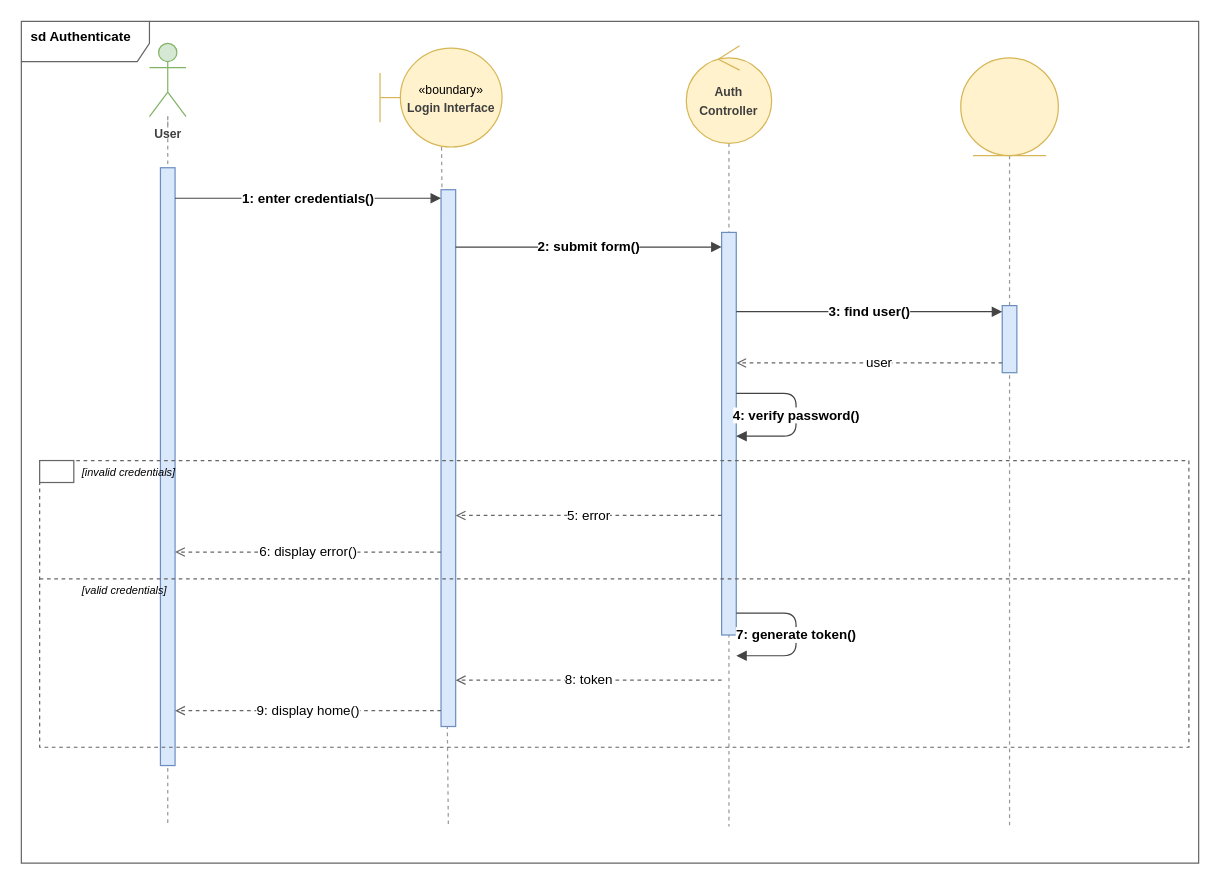
Some shapes in this 1220 by 885 pixel diagram are drawn without their labels. Each missing label, with the centre of its shape:
"alt" goes at [56,471].
"«entity» User" goes at [1009,106].
